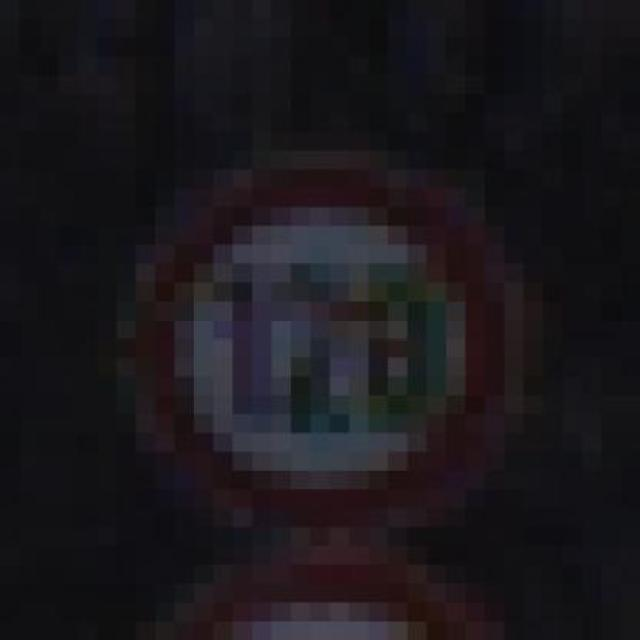forb_speed_over_120: (157, 163, 515, 539)
